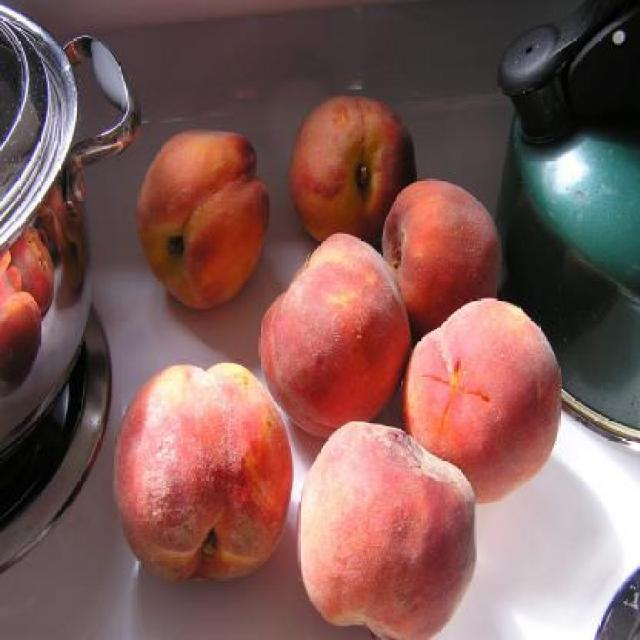Peach: (255, 99, 563, 639), (294, 420, 480, 637), (112, 364, 294, 584), (134, 128, 270, 310), (0, 262, 45, 384), (40, 184, 86, 292), (10, 222, 56, 316)
